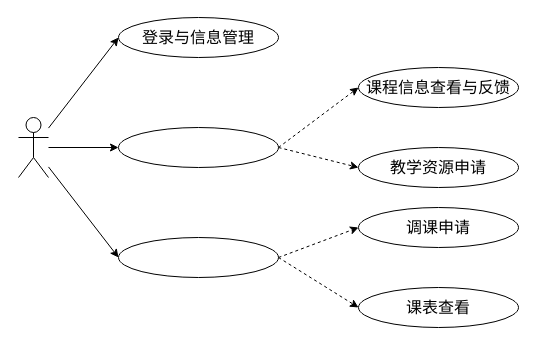
Some shapes in this 536 by 345 pixel diagram are drawn without their labels. Here are the shapes that lost their labels. From the top down, the centre of each, then its label:
point 33,147: 教师
point 198,147: 课程管理
point 198,257: 课表查看与操作
